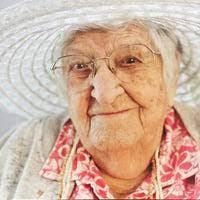Persons: (37, 21, 196, 169)
